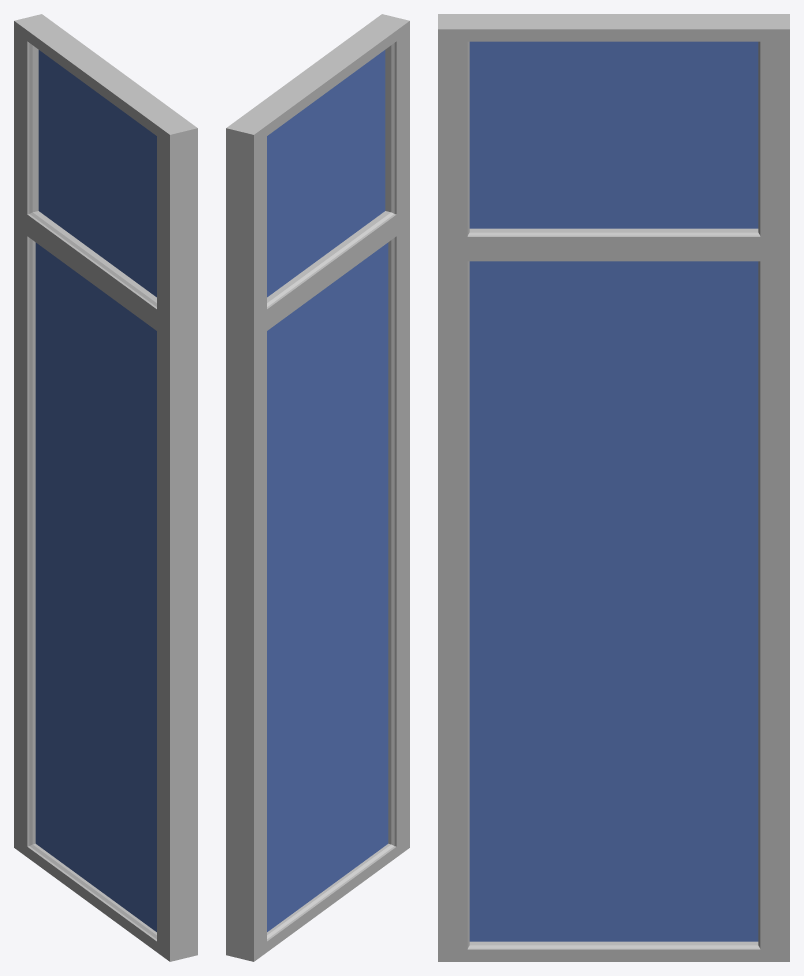
File: win24_02.fbx
3 renders of one model, left to right at view 1: azimuth 30°, elevation 25°; view 2: azimuth 150°, elevation 25°; view 3: azimuth 270°, elevation 25°, orthographic. The views are drawn at different scales.
Parts seen in each view (by area): view 1: Cylinder_2_2; view 2: Cylinder_2_2; view 3: Cylinder_2_2.
Part boxes in pixels (bbox=[...]): Cylinder_2_2: bbox=[14, 14, 197, 961]; Cylinder_2_2: bbox=[226, 14, 409, 961]; Cylinder_2_2: bbox=[438, 14, 789, 961].
Size of the model in its own units: 4.58 by 130 by 44.4.
